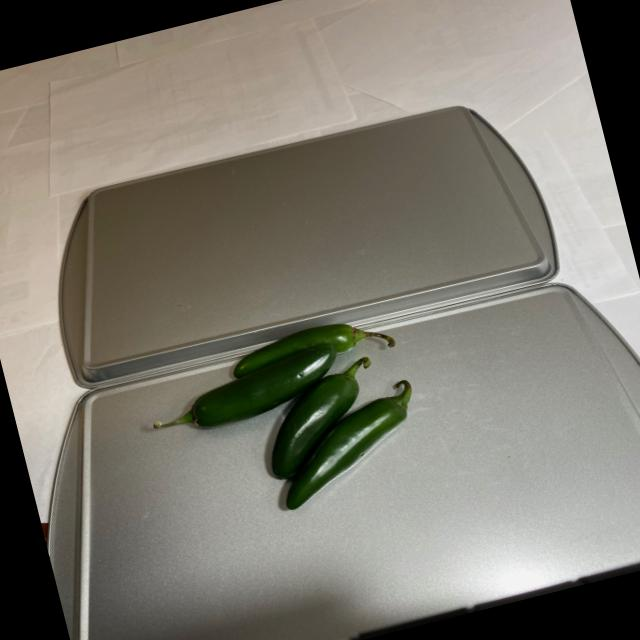chilli: (128, 300, 455, 542)
